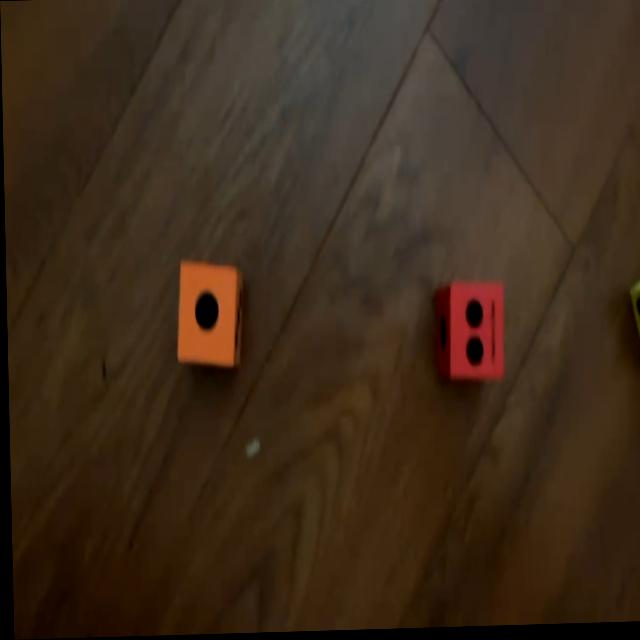cube: (435, 284, 505, 382)
